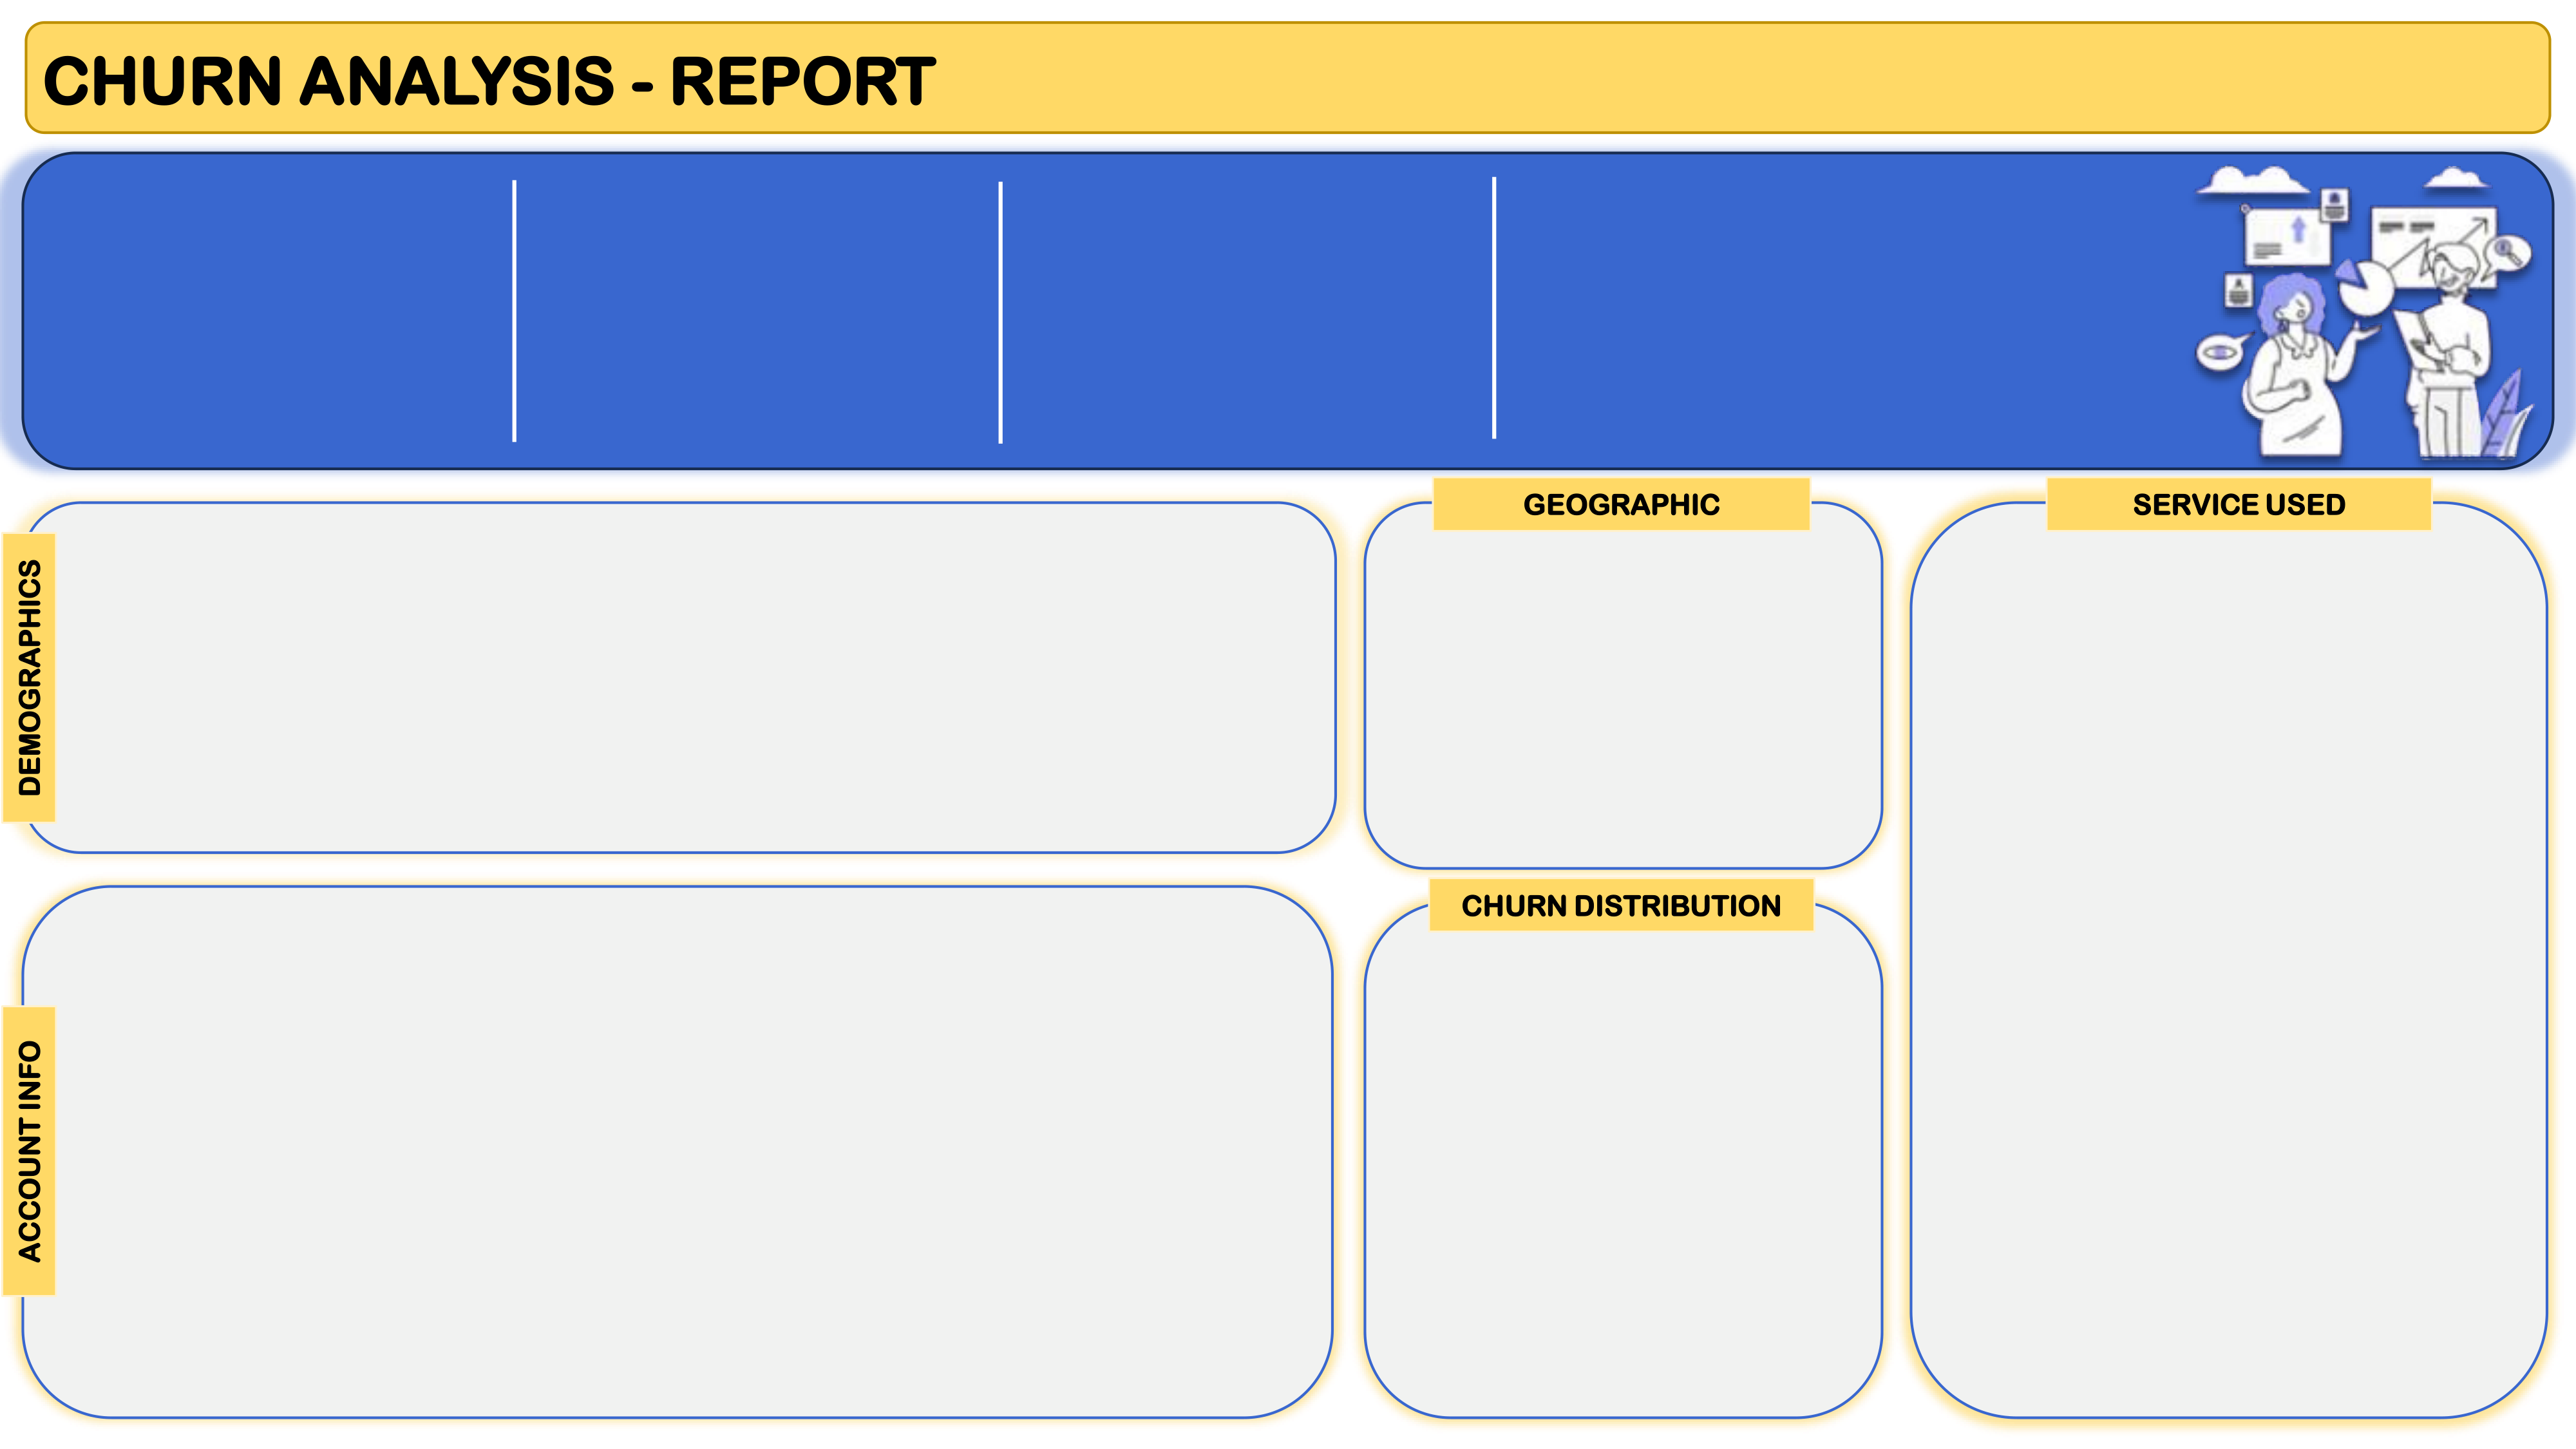

The dashboard page shown, as its layout file describes it:
{"tool":"powerbi","page":{"name":"Churn Analysis","canvas":[1280,720],"ordinal":0},"visuals":[{"type":"image","box":[121.2,317.5,48.8,48.8],"z":0},{"type":"card","fields":{"Values":["tbl_Measures.Total Customers"]},"box":[40.3,82.4,188.6,130],"z":1000},{"type":"card","fields":{"Values":["tbl_Measures.New Joiners"]},"box":[291.1,84.2,188.6,130],"z":2000},{"type":"card","fields":{"Values":["tbl_Measures.Total Churn"]},"box":[529.1,82.4,186.7,130],"z":3000},{"type":"card","fields":{"Values":["tbl_Measures.Churn Rate"]},"box":[776.2,82.4,188.6,130],"z":4000},{"type":"donutChart","fields":{"Category":["prod_Churn.Gender"],"Y":["tbl_Measures.Total Churn"]},"box":[65.9,254.1,225.3,165.4],"z":5000},{"type":"lineStackedColumnComboChart","fields":{"Category":["mapping_AgeGrp.Age Group"],"Y":["tbl_Measures.Total Customers"],"Y2":["tbl_Measures.Churn Rate"]},"box":[339.2,254.1,317.6,167.8],"z":6000},{"type":"clusteredBarChart","fields":{"Y":["tbl_Measures.Churn Rate"],"Category":["prod_Churn.Payment_Method"]},"box":[66,443.4,251.6,124.6],"z":7000},{"type":"clusteredBarChart","fields":{"Category":["prod_Churn.Contract"],"Y":["tbl_Measures.Churn Rate"]},"box":[66,571.6,251.6,130.7],"z":8000},{"type":"lineStackedColumnComboChart","fields":{"Category":["mapping_TenureGrp.Tenure Group"],"Y":["tbl_Measures.Total Customers"],"Y2":["tbl_Measures.Churn Rate"]},"box":[339.2,443.4,316.4,256.5],"z":9000},{"type":"clusteredBarChart","title":"Churn Rate by State (Top 5)","fields":{"Category":["prod_Churn.State"],"Y":["tbl_Measures.Churn Rate"]},"box":[684,262.6,247.9,157.6],"z":10000},{"type":"clusteredBarChart","fields":{"Category":["prod_Churn.Churn_Category"],"Y":["tbl_Measures.Total Churn"]},"box":[682.7,461.7,249.2,238.2],"z":11000},{"type":"clusteredBarChart","fields":{"Category":["prod_Churn.Internet_Type"],"Y":["tbl_Measures.Churn Rate"]},"box":[980.4,267.3,264.9,137.8],"z":12000},{"type":"pivotTable","title":"Churn by Services","fields":{"Rows":["prod_Services.Services"],"Columns":["prod_Services.Status"],"Values":["Sum(prod_Services.Churn status)"]},"box":[975.6,408.7,272.1,281.6],"z":13000},{"type":"slicer","fields":{"Values":["prod_Churn.Monthly"]},"box":[671.2,12,183.4,51.5],"z":14000},{"type":"slicer","fields":{"Values":["prod_Churn.State"]},"box":[854.5,12,178.6,51.5],"z":15000},{"type":"shape","box":[1122.7,12.7,143.6,51.8],"z":17001}]}

Visuals, with their boxes in screenshot pixels (x1, y1, x2, y2), scaled from the page's 1280x720 canvas onto the 2576x1449 screenshot:
image: <bbox>244, 639, 342, 737</bbox>
card - tbl_Measures.Total Customers: <bbox>81, 166, 460, 428</bbox>
card - tbl_Measures.New Joiners: <bbox>586, 169, 965, 431</bbox>
card - tbl_Measures.Total Churn: <bbox>1065, 166, 1441, 428</bbox>
card - tbl_Measures.Churn Rate: <bbox>1562, 166, 1942, 428</bbox>
donutChart - prod_Churn.Gender x tbl_Measures.Total Churn: <bbox>133, 511, 586, 844</bbox>
lineStackedColumnComboChart - mapping_AgeGrp.Age Group x tbl_Measures.Total Customers: <bbox>683, 511, 1321, 849</bbox>
clusteredBarChart - tbl_Measures.Churn Rate x prod_Churn.Payment_Method: <bbox>133, 893, 639, 1143</bbox>
clusteredBarChart - prod_Churn.Contract x tbl_Measures.Churn Rate: <bbox>133, 1150, 639, 1414</bbox>
lineStackedColumnComboChart - mapping_TenureGrp.Tenure Group x tbl_Measures.Total Customers: <bbox>683, 893, 1320, 1408</bbox>
"Churn Rate by State (Top 5)" clusteredBarChart: <bbox>1377, 529, 1875, 846</bbox>
clusteredBarChart - prod_Churn.Churn_Category x tbl_Measures.Total Churn: <bbox>1374, 929, 1875, 1408</bbox>
clusteredBarChart - prod_Churn.Internet_Type x tbl_Measures.Churn Rate: <bbox>1973, 538, 2506, 815</bbox>
"Churn by Services" pivotTable: <bbox>1964, 822, 2511, 1389</bbox>
slicer - prod_Churn.Monthly: <bbox>1351, 24, 1720, 128</bbox>
slicer - prod_Churn.State: <bbox>1719, 24, 2079, 128</bbox>
shape: <bbox>2259, 26, 2548, 130</bbox>
